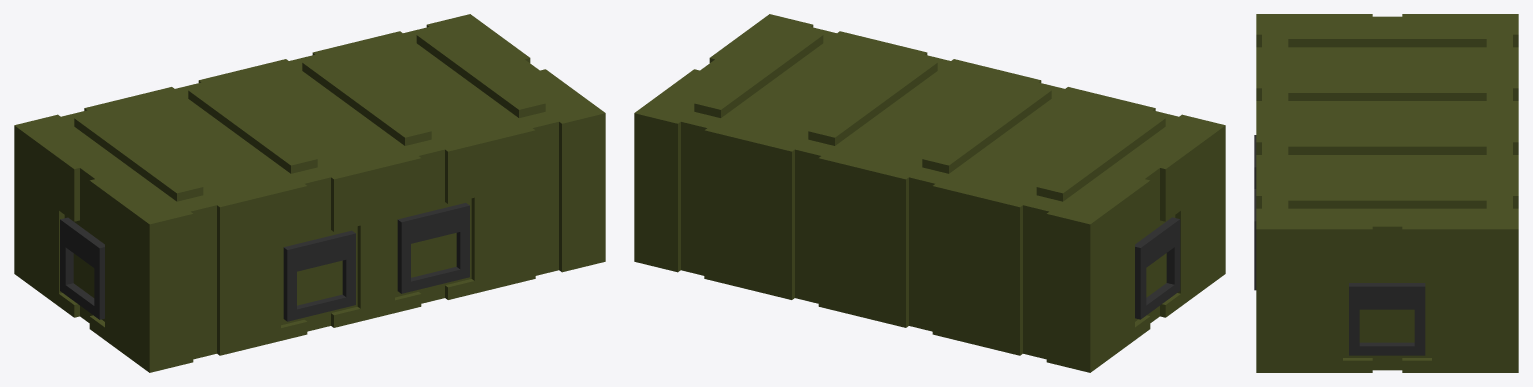
Rendered from Military_Supplies_Container.fbx.
3 renders of one model, left to right at view 1: azimuth 30°, elevation 25°; view 2: azimuth 150°, elevation 25°; view 3: azimuth 270°, elevation 25°, orthographic. The views are drawn at different scales.
Visible parts, largest first — view 1: Military_Supplies_Container; view 2: Military_Supplies_Container; view 3: Military_Supplies_Container.
Boxes of the visible parts, left/top/right/bottom form: Military_Supplies_Container: left=14, top=14, right=605, bottom=372; Military_Supplies_Container: left=634, top=14, right=1225, bottom=372; Military_Supplies_Container: left=1254, top=14, right=1518, bottom=372.
Size of the model in its own units: 136 by 44.34 by 69.94.
